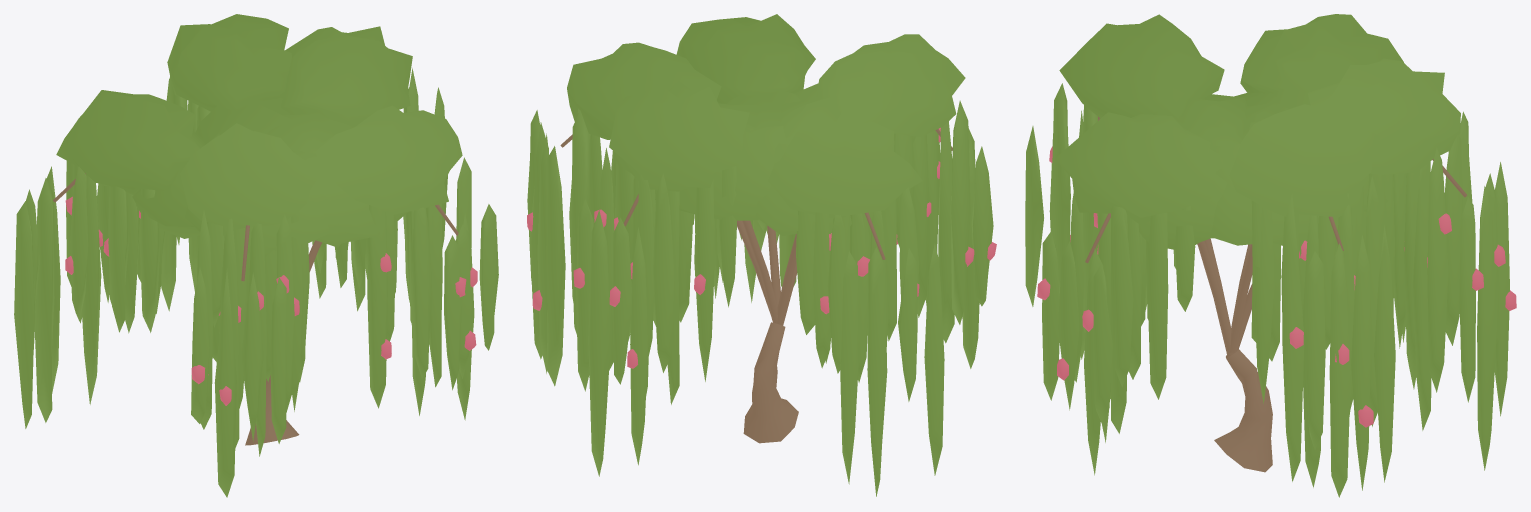
Rendered from Blender_PepperTree_1.glb.
3 renders of one model, left to right at view 1: azimuth 30°, elevation 25°; view 2: azimuth 150°, elevation 25°; view 3: azimuth 270°, elevation 25°, orthographic. The views are drawn at different scales.
Parts seen in each view (by area): view 1: Blender_PepperTree_1; view 2: Blender_PepperTree_1; view 3: Blender_PepperTree_1.
Boxes of the visible parts, bbox=[...] form: Blender_PepperTree_1: bbox=[14, 14, 498, 497]; Blender_PepperTree_1: bbox=[527, 14, 996, 496]; Blender_PepperTree_1: bbox=[1025, 14, 1516, 497].
Size of the model in its own units: 12.67 by 10.76 by 11.77.
